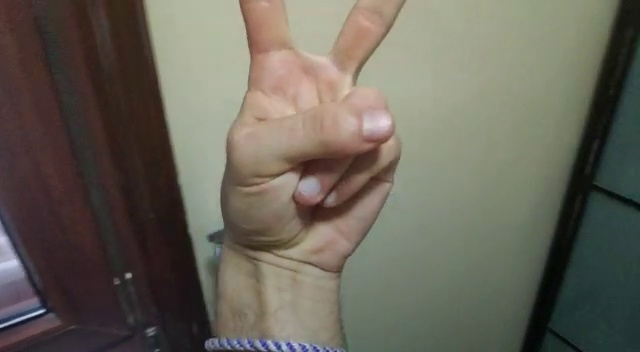Peace: (209, 1, 411, 258)
